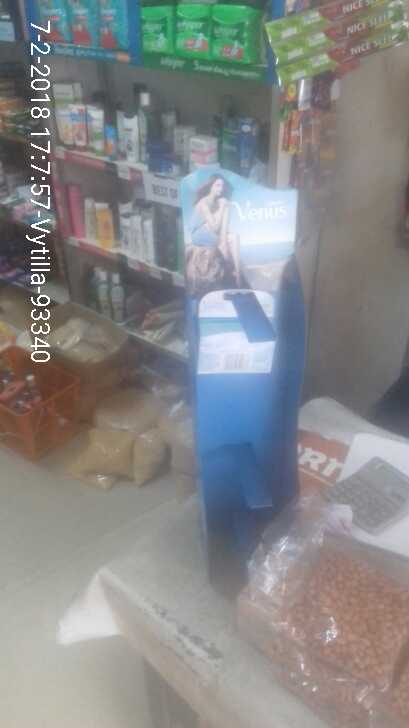pharmacy: (208, 5, 266, 58), (69, 1, 102, 48), (177, 5, 207, 54), (141, 3, 169, 53), (34, 1, 69, 41), (99, 3, 127, 49)
